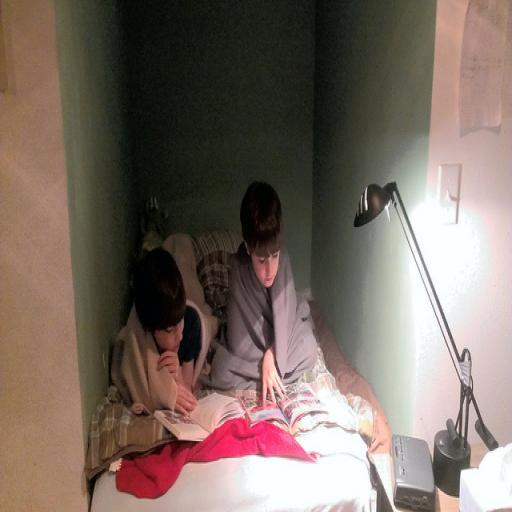bed: (93, 196, 390, 512)
